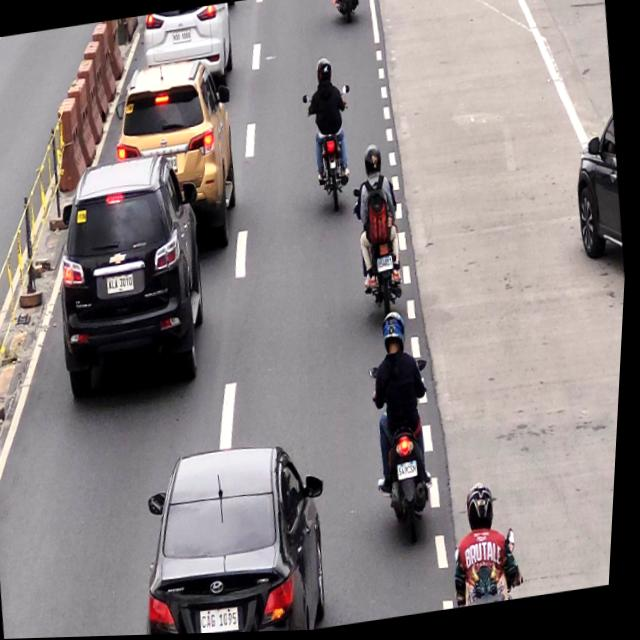Car: (41, 156, 213, 410), (139, 434, 346, 636), (114, 63, 246, 252), (139, 3, 238, 84)
License-Plate: (204, 608, 248, 635), (107, 272, 139, 297), (400, 463, 423, 482), (170, 28, 194, 46), (379, 256, 398, 275)
Motorcycle: (369, 307, 443, 541), (447, 474, 531, 611), (348, 143, 413, 313), (303, 55, 358, 214)
